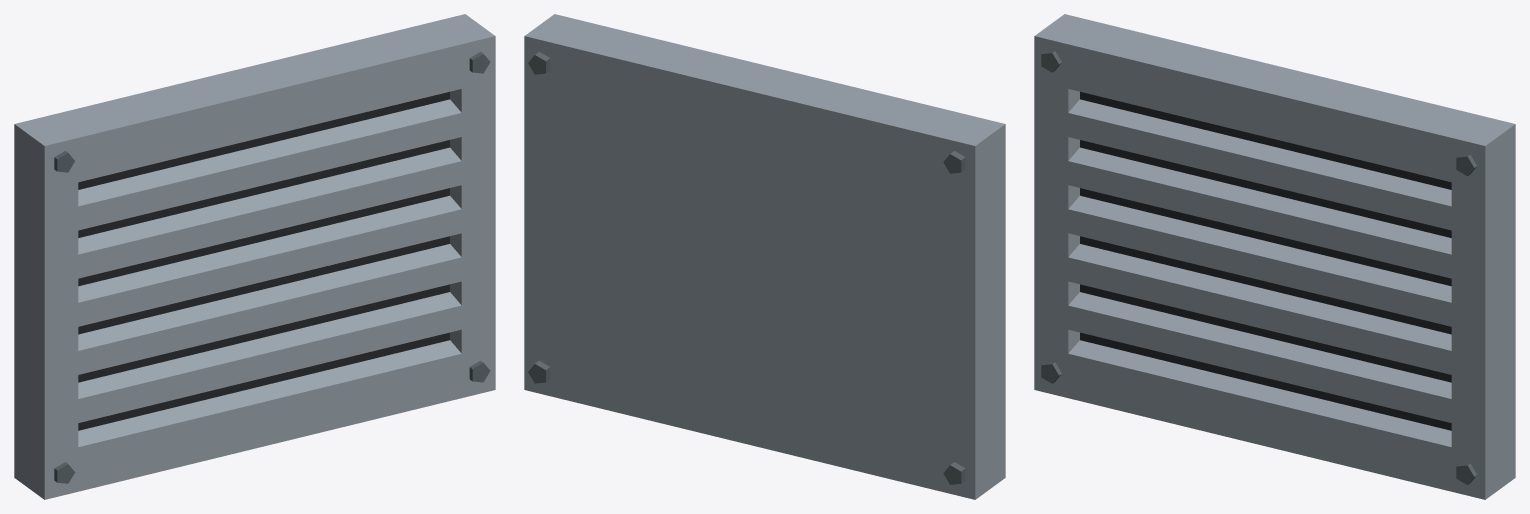
Rendered from SM_Prop_AirDuct_End_01.obj.
The picture shows the model from 3 angles, left to right: view 1: azimuth 30°, elevation 25°; view 2: azimuth 150°, elevation 25°; view 3: azimuth 330°, elevation 25°; orthographic projection.
Visible parts, largest first — view 1: SM_Prop_AirDuct_End_01_0; view 2: SM_Prop_AirDuct_End_01_0; view 3: SM_Prop_AirDuct_End_01_0.
Boxes of the visible parts, box(x1,y1,x2,y2) form: SM_Prop_AirDuct_End_01_0: box(14, 14, 495, 499); SM_Prop_AirDuct_End_01_0: box(524, 14, 1005, 499); SM_Prop_AirDuct_End_01_0: box(1034, 14, 1515, 499).
Bounding box in the file's own units: 0.9488 × 0.7116 × 0.1367.
Materials: 1 (1 with a texture image).
